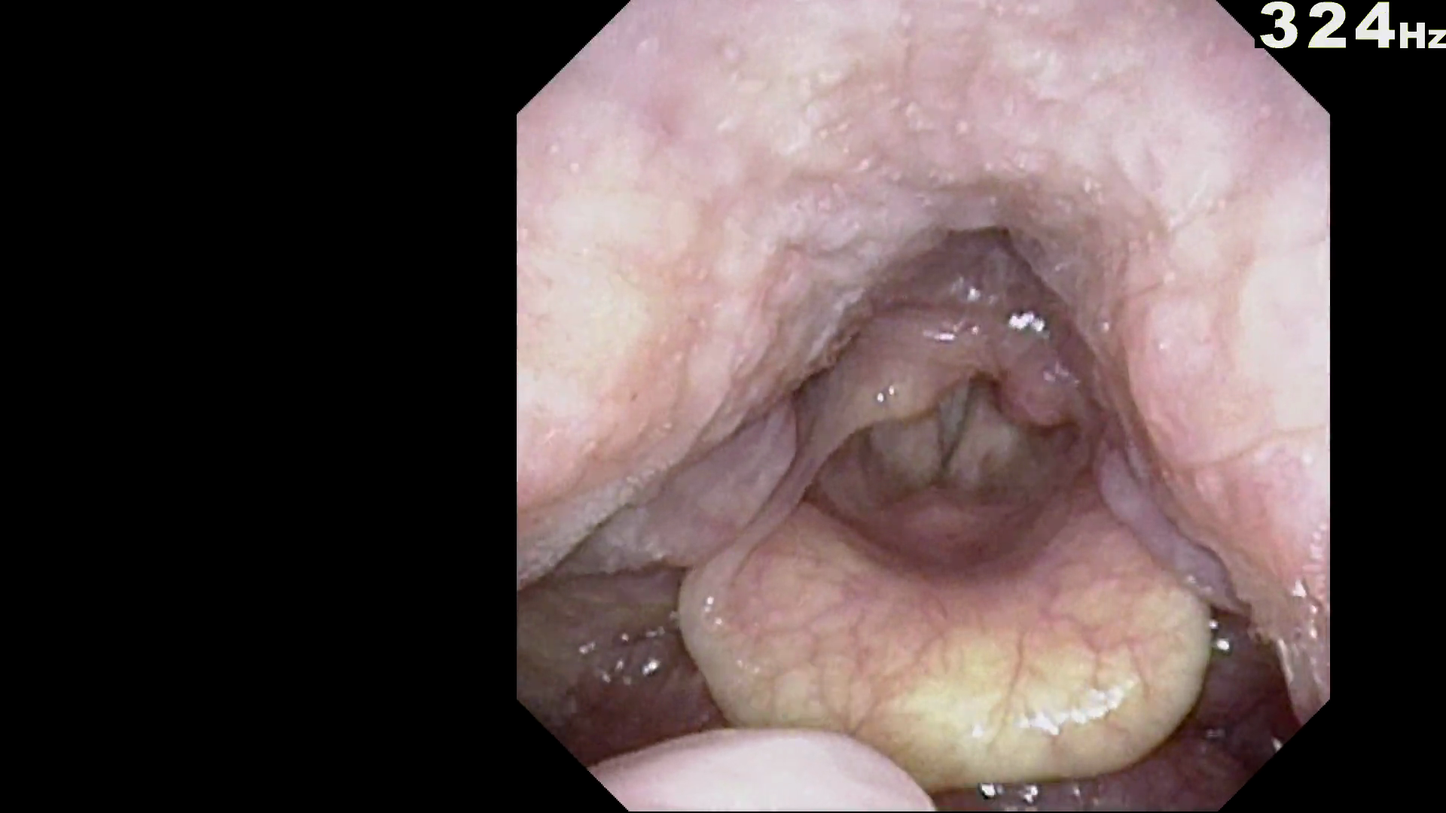epiglottis: (664, 532, 1239, 766)
trachea: (867, 343, 1034, 532)
